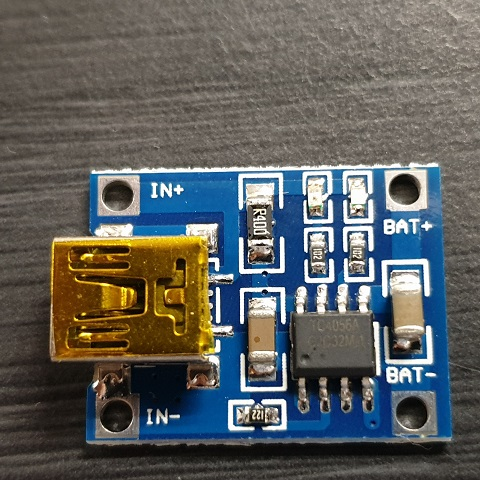batt+: (376, 166, 428, 211)
batt-: (392, 390, 438, 439)
charge: (304, 162, 332, 220)
done: (326, 162, 370, 224)
rprog: (224, 398, 280, 434)
usb: (52, 240, 208, 358)
